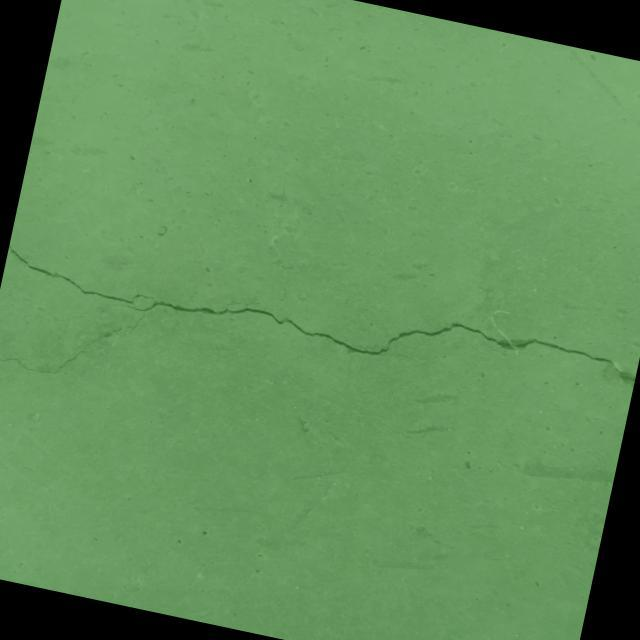crack: (0, 225, 639, 494)
